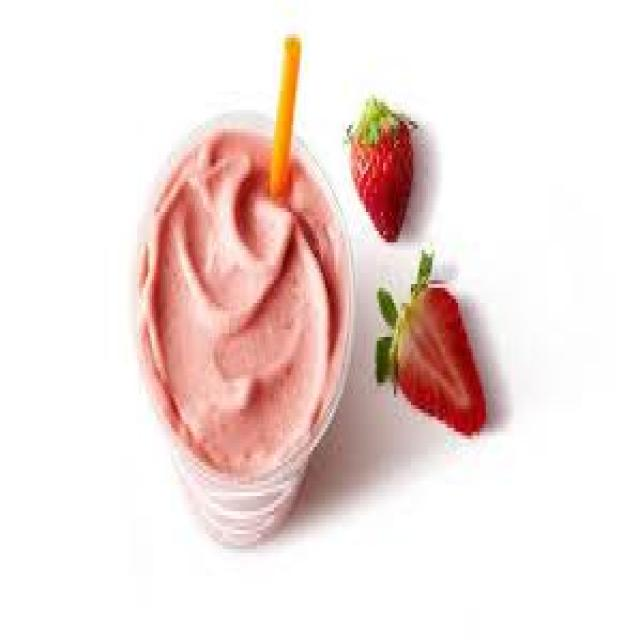strawberry: (372, 255, 497, 436), (346, 80, 426, 252)
